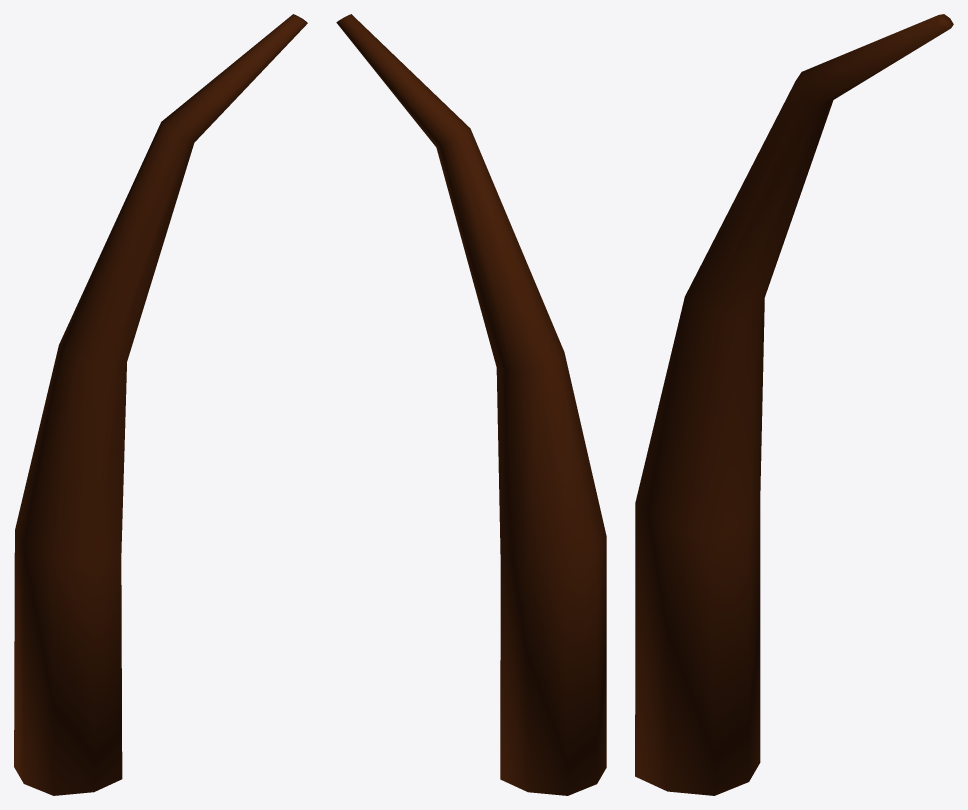
The model's file is tree.fbx.
3 views of the same model, side by side, from view 1: azimuth 30°, elevation 25°; view 2: azimuth 150°, elevation 25°; view 3: azimuth 330°, elevation 25° (orthographic). The views are drawn at different scales.
Visible parts, largest first — view 1: Cube; view 2: Cube; view 3: Cube.
Part boxes in pixels (x1,y1,x2,y2): Cube: [14, 14, 307, 795]; Cube: [336, 14, 606, 795]; Cube: [635, 14, 953, 795].
Bounding box in the file's own units: 795 × 263 × 1981.
